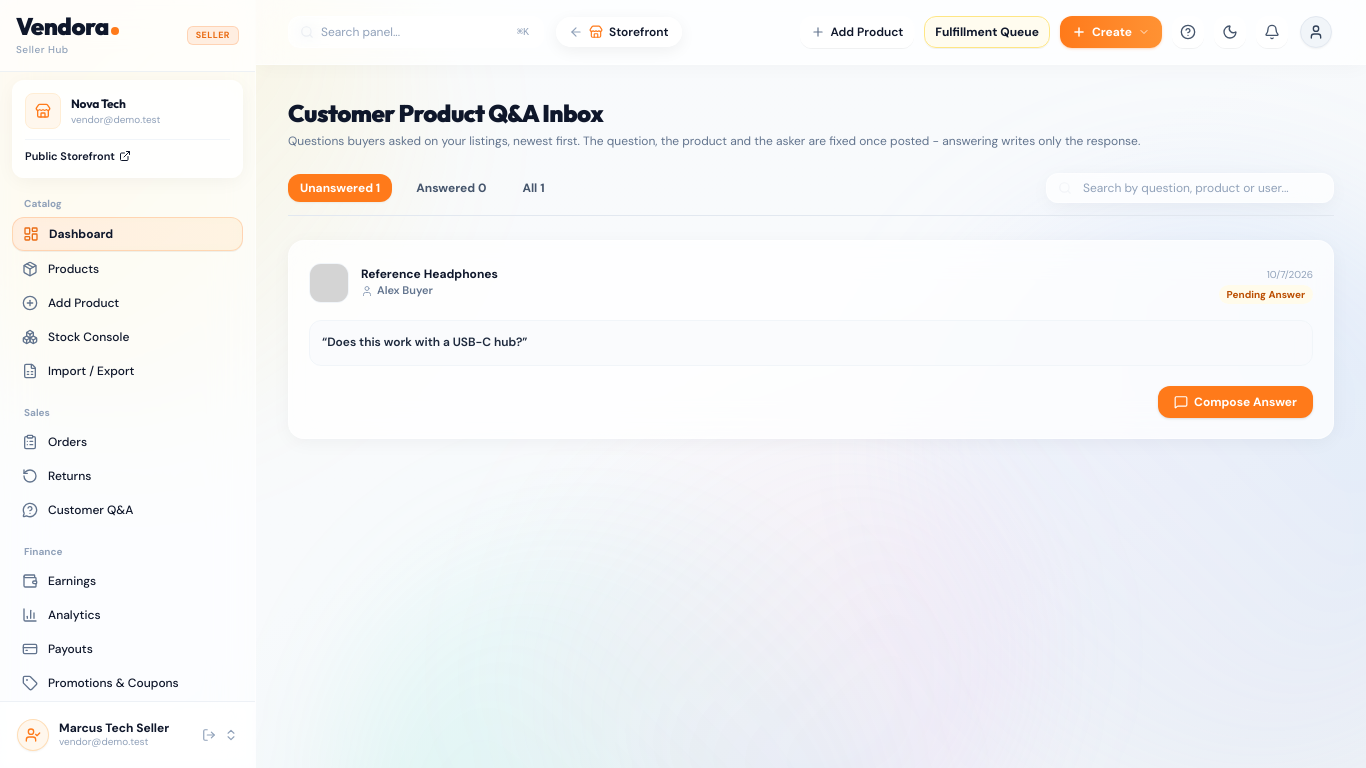
Test: VendorQAPage › writes an answer to the database and publishes it on the listing
Click the button "Compose Answer" at [1236, 402], box [1158,386,1313,418]
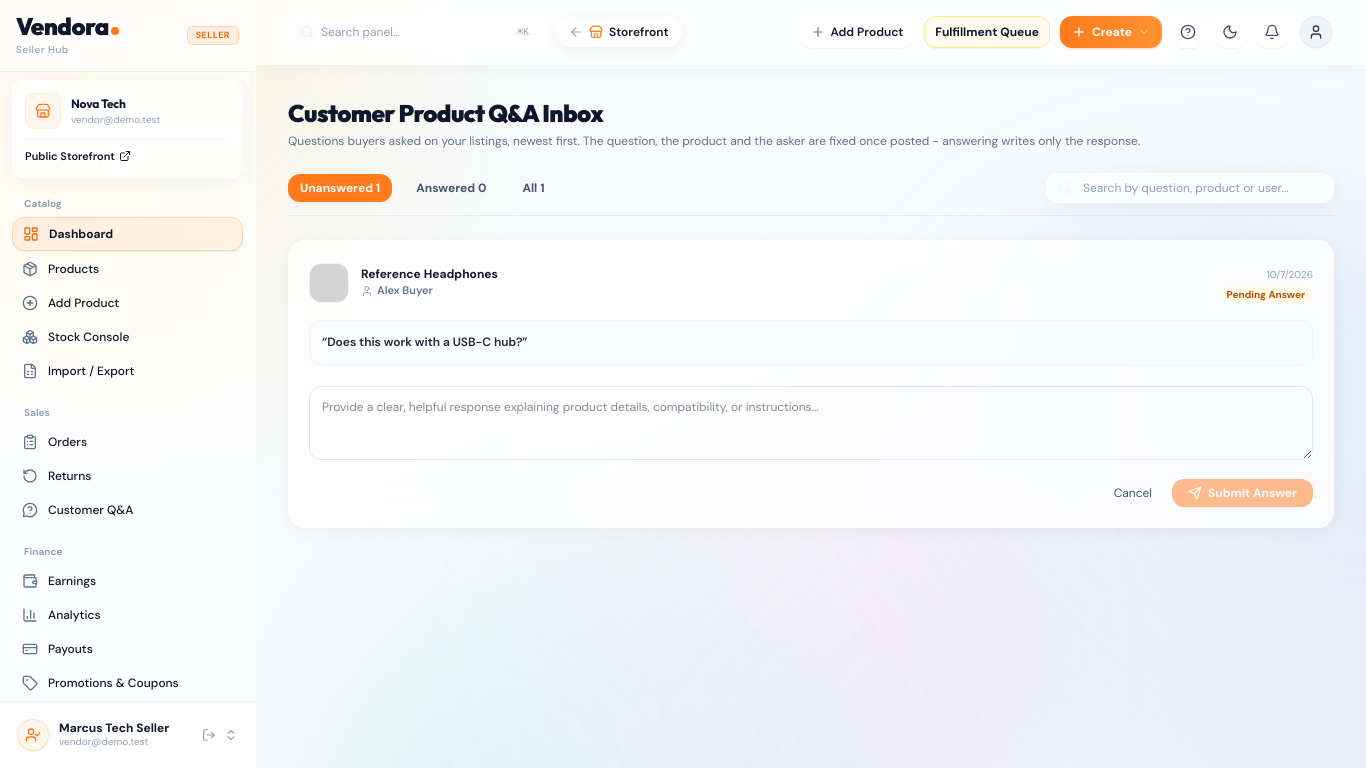
Replace the text in the text box with placeholder "Provide a clear, helpful response" with "Yes, it charges over USB-C." at [811, 422], box [309,386,1313,460]
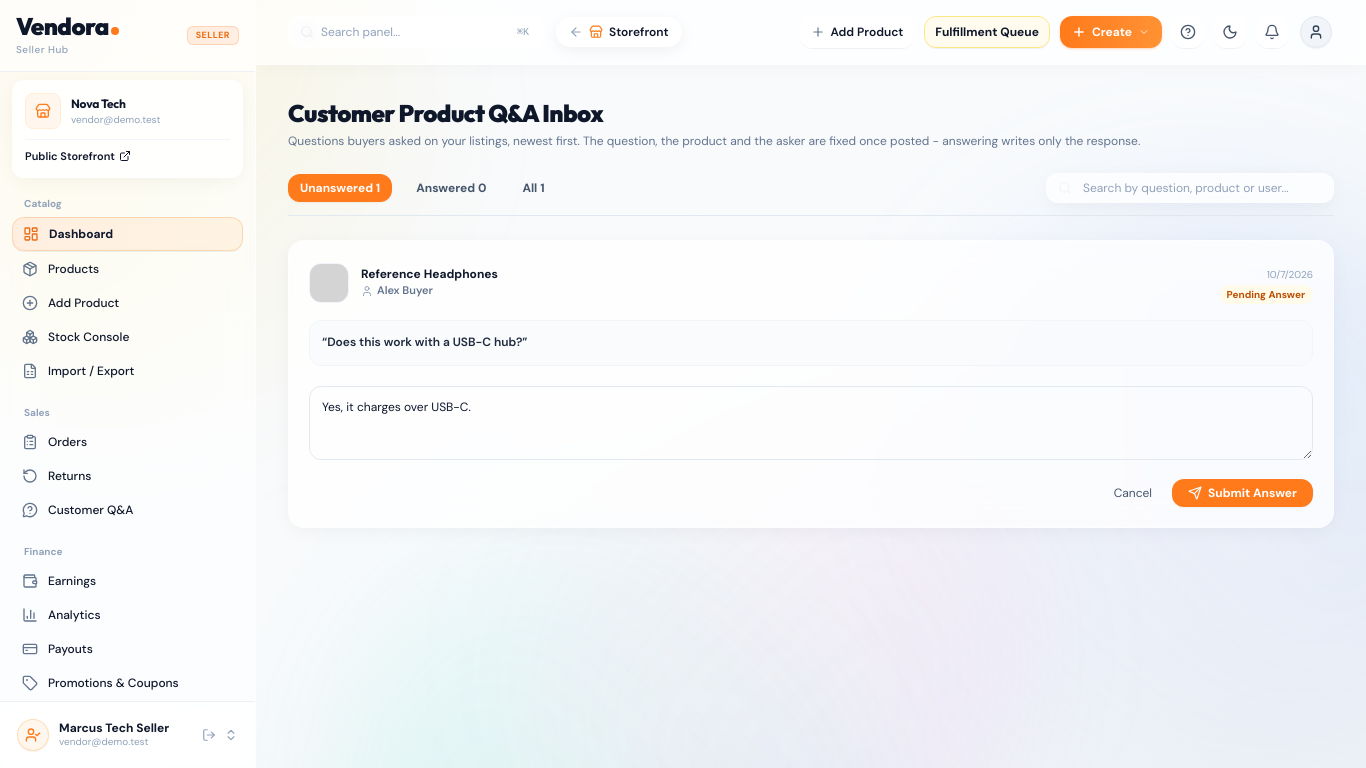
Click the button "Submit Answer" at [1242, 492], box [1172,478,1313,506]
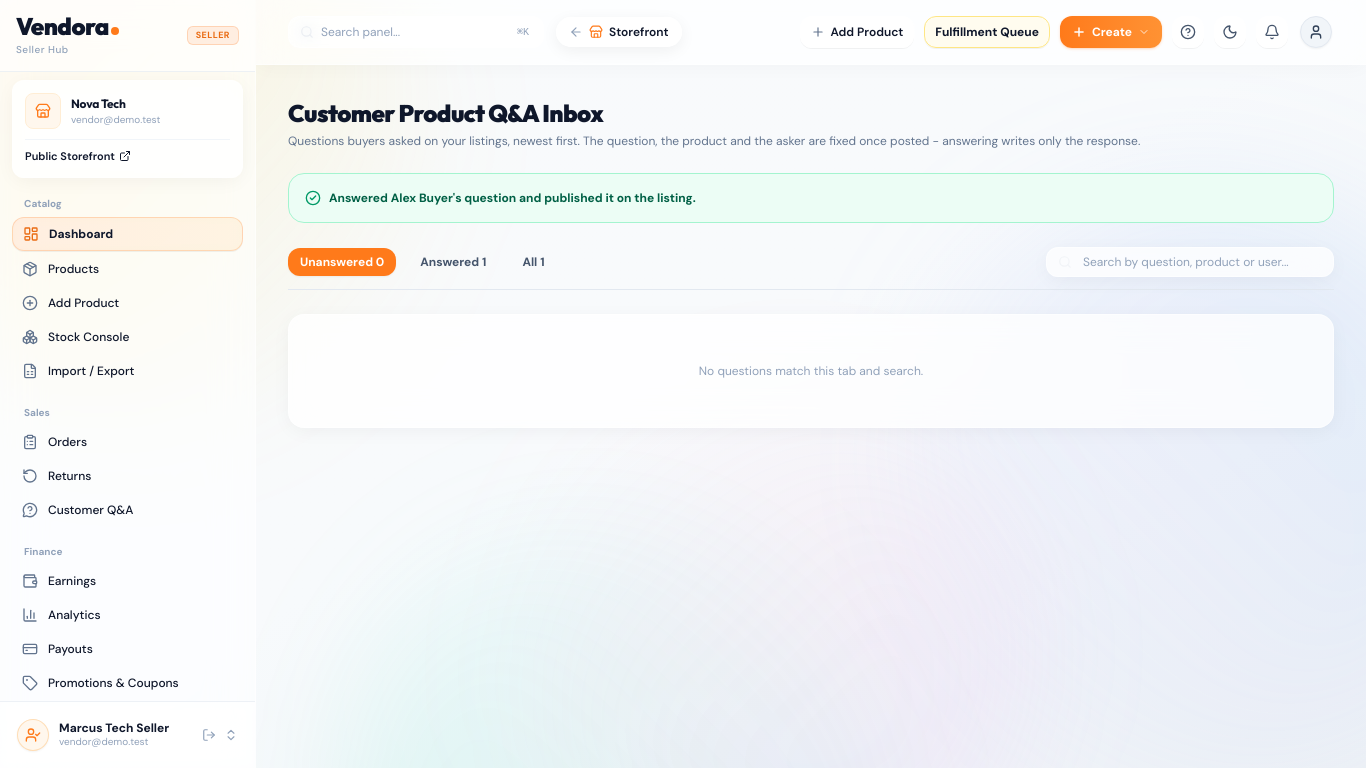
Check: the text "Answered Alex Buyer's question and published it" is shown, box [329,190,696,206]
Check: the button "Answered 1" is shown
Click the button "Answered 1" at [453, 262], box [408,248,498,276]
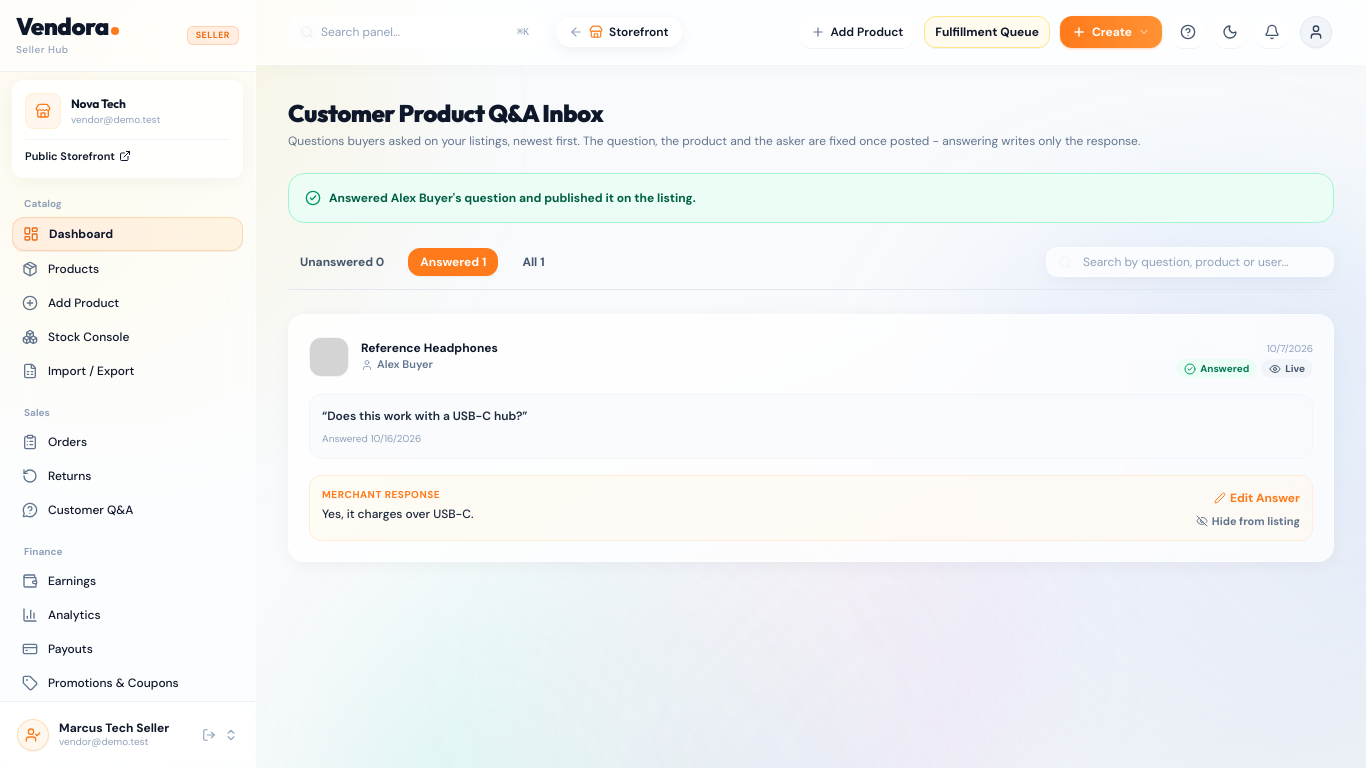
Check: the text "Yes, it charges over USB-C." is shown, box [322,505,474,524]
Check: the button "Hide from listing" is shown, box [1196,514,1300,528]
